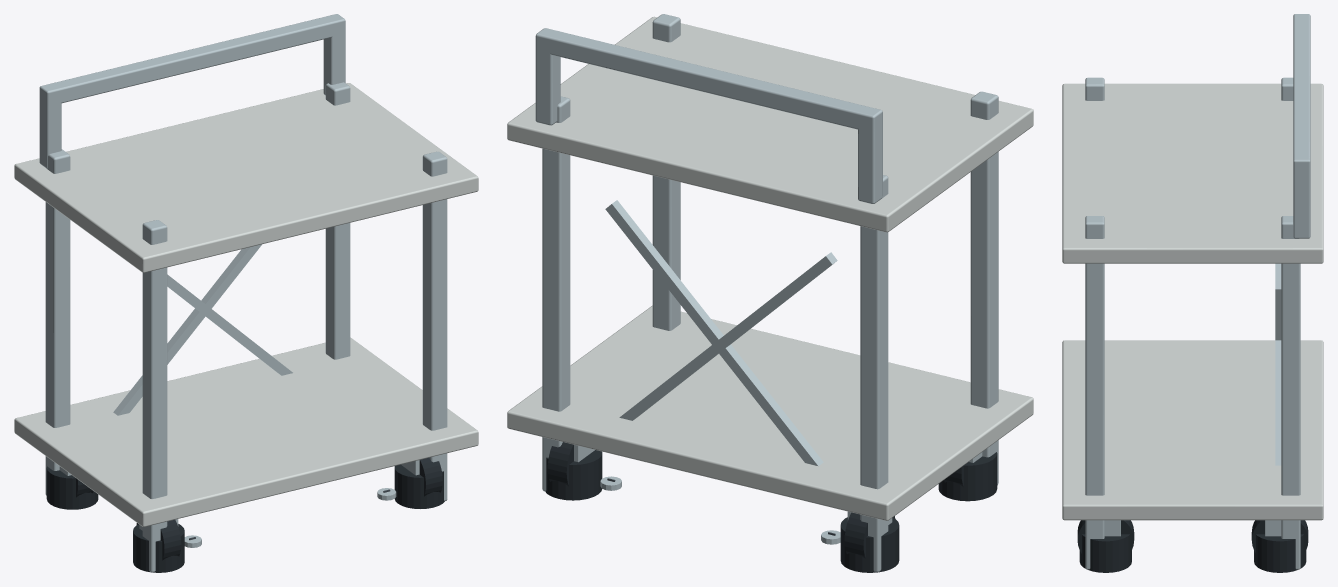
The model's file is data-centre-infiltration-kit-data-centre-infiltration--09048a21__29251.glb.
3 views of the same model, side by side, from view 1: azimuth 30°, elevation 25°; view 2: azimuth 150°, elevation 25°; view 3: azimuth 270°, elevation 25° (orthographic). The views are drawn at different scales.
Parts seen in each view (by area): view 1: data-centre-infiltration-kit-service-cart; view 2: data-centre-infiltration-kit-service-cart; view 3: data-centre-infiltration-kit-service-cart.
Boxes of the visible parts, x1,y1,x2,y2 form: data-centre-infiltration-kit-service-cart: (14, 14, 478, 572); data-centre-infiltration-kit-service-cart: (507, 14, 1033, 572); data-centre-infiltration-kit-service-cart: (1062, 14, 1323, 572).
Size of the model in its own units: 0.9 by 1.04 by 0.6.
